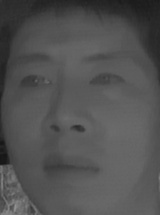eye: (87, 68, 127, 94), (15, 71, 54, 95)
mouth: (37, 149, 100, 186)
